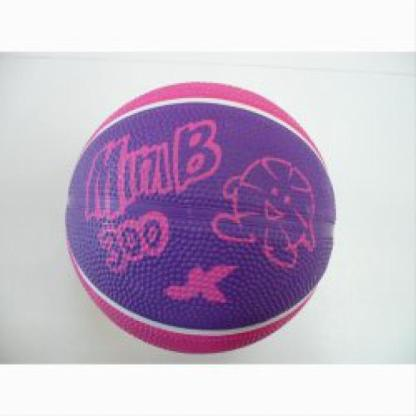basketball: (60, 76, 338, 358)
